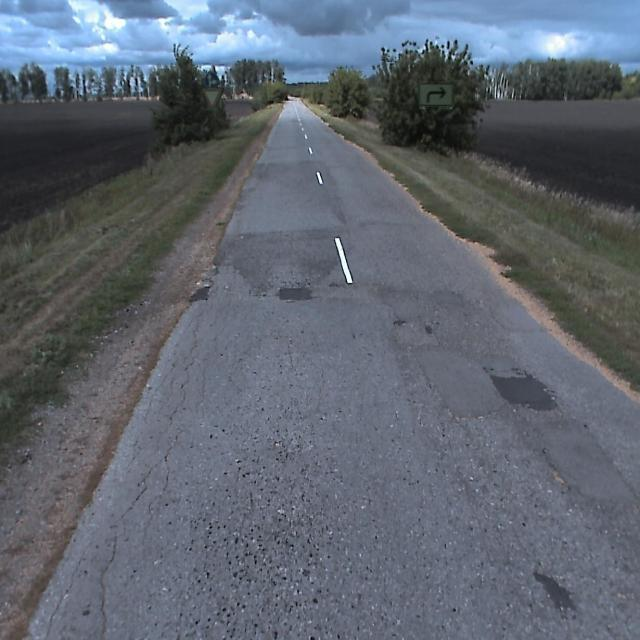road: (22, 98, 639, 639)
